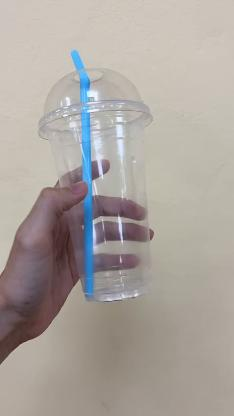Plastic Cup: (38, 66, 154, 302)
